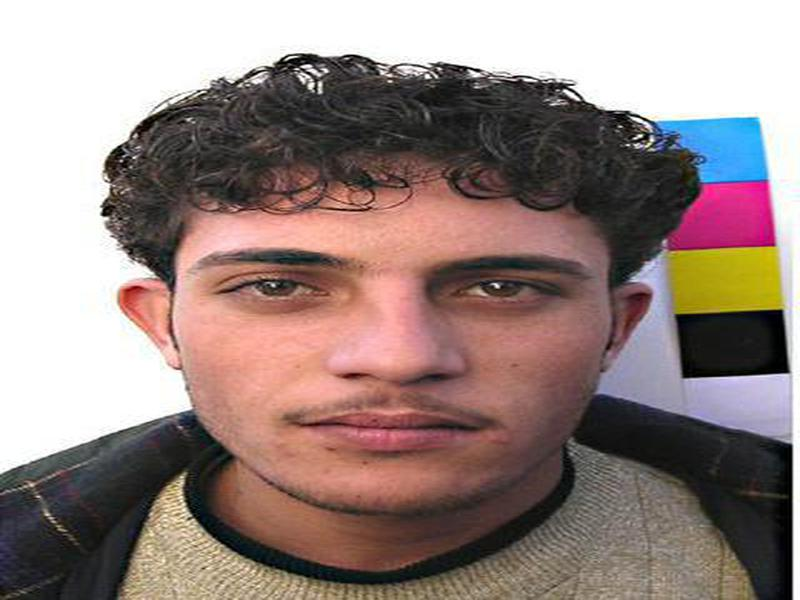without_mask: (168, 184, 616, 529)
